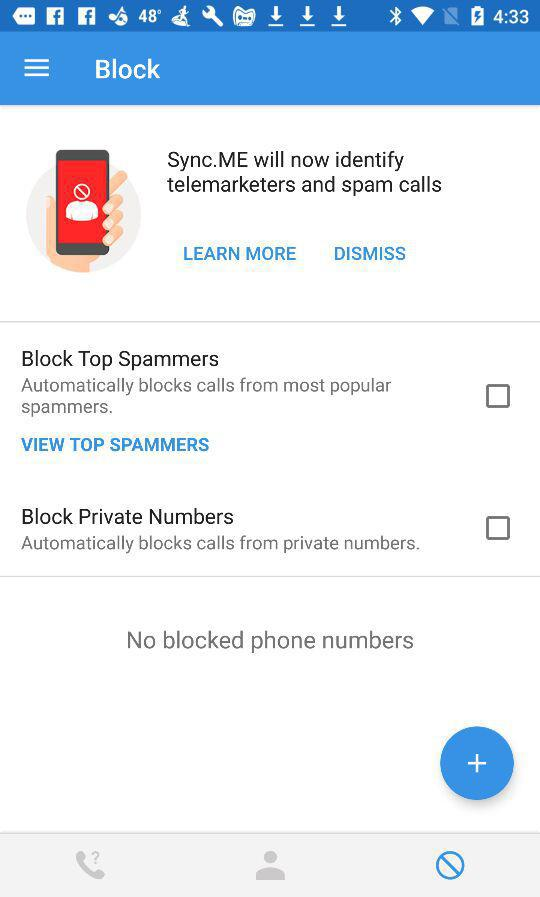Bottom_Navigation: (1, 834, 540, 897)
CheckedTextView: (485, 384, 511, 409), (486, 516, 511, 541)
Icon: (439, 726, 515, 801), (256, 849, 287, 881), (75, 849, 107, 880), (435, 850, 465, 881), (24, 58, 51, 79)
Image: (26, 150, 143, 275)
Text: (21, 377, 393, 418), (167, 151, 443, 198), (21, 534, 420, 555), (128, 629, 414, 654), (23, 350, 220, 372), (22, 507, 235, 525), (21, 437, 210, 453), (183, 246, 297, 262), (96, 58, 162, 81), (334, 246, 406, 262)
Toolbar: (1, 32, 540, 106)
UpperTaskBar: (1, 1, 540, 33)
